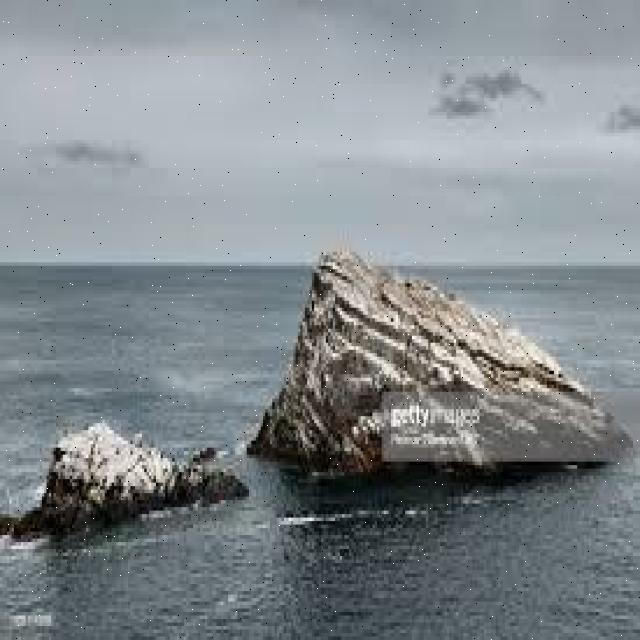Metamorphic: (16, 406, 254, 538)
